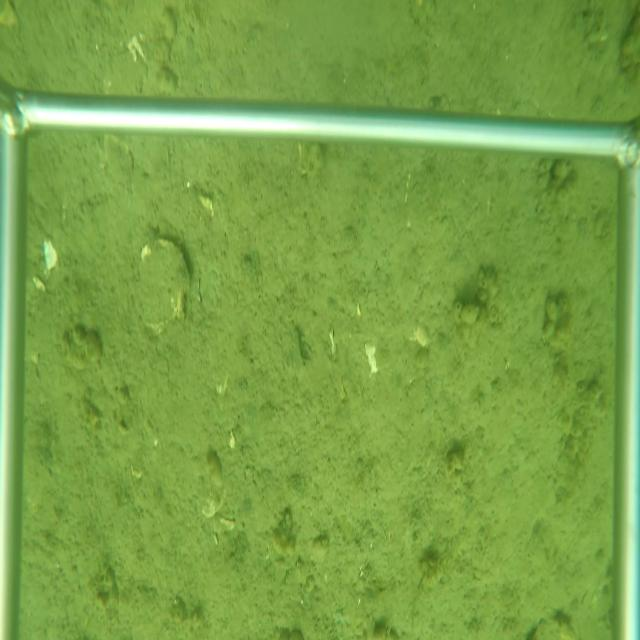Oyster-Indeterminate: (134, 237, 191, 337)
